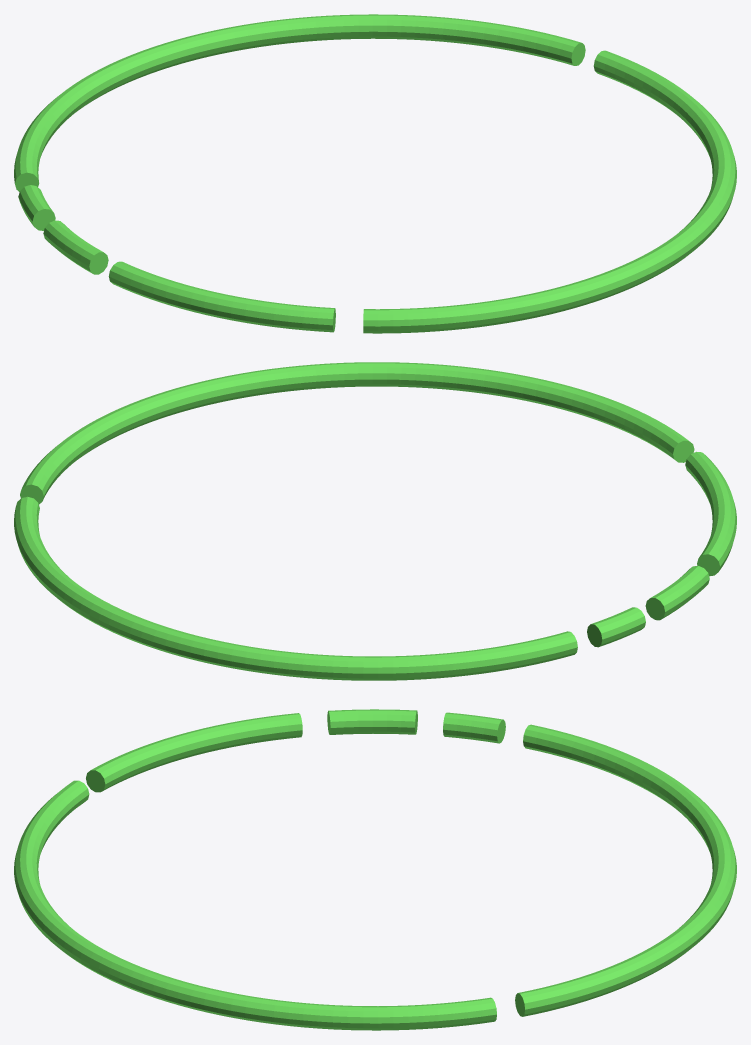
File: ring.glb
The picture shows the model from 3 angles, top to bottom: view 1: azimuth 30°, elevation 25°; view 2: azimuth 150°, elevation 25°; view 3: azimuth 270°, elevation 25°; orthographic projection.
Parts seen in each view (by area): view 1: Backup; view 2: Backup; view 3: Backup.
Boxes of the visible parts, x1,y1,x2,y2 form: Backup: (14,14,736,333); Backup: (14,362,736,680); Backup: (14,709,736,1030).
Size of the model in its own units: 4.14 by 0.1494 by 4.14.
